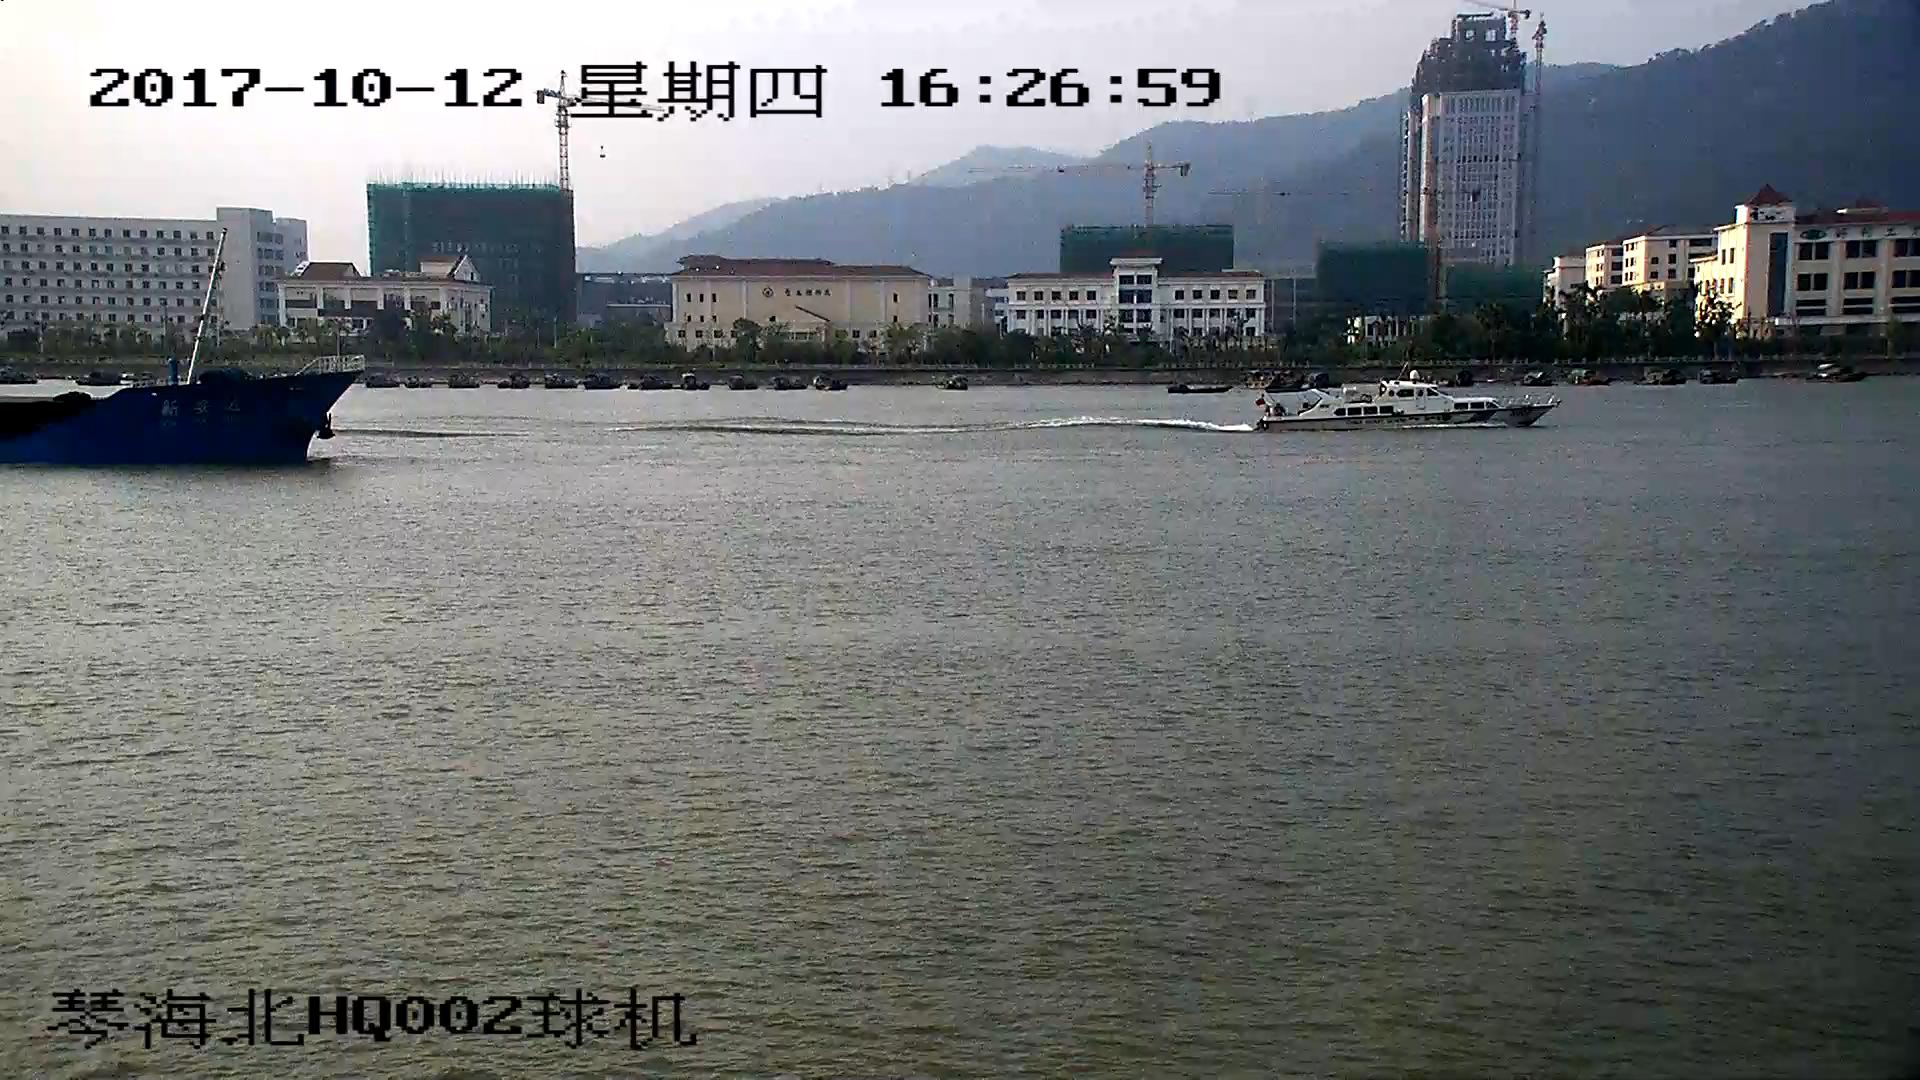bulk cargo carrier: (1, 353, 355, 458)
passenger ship: (1261, 378, 1550, 432)
